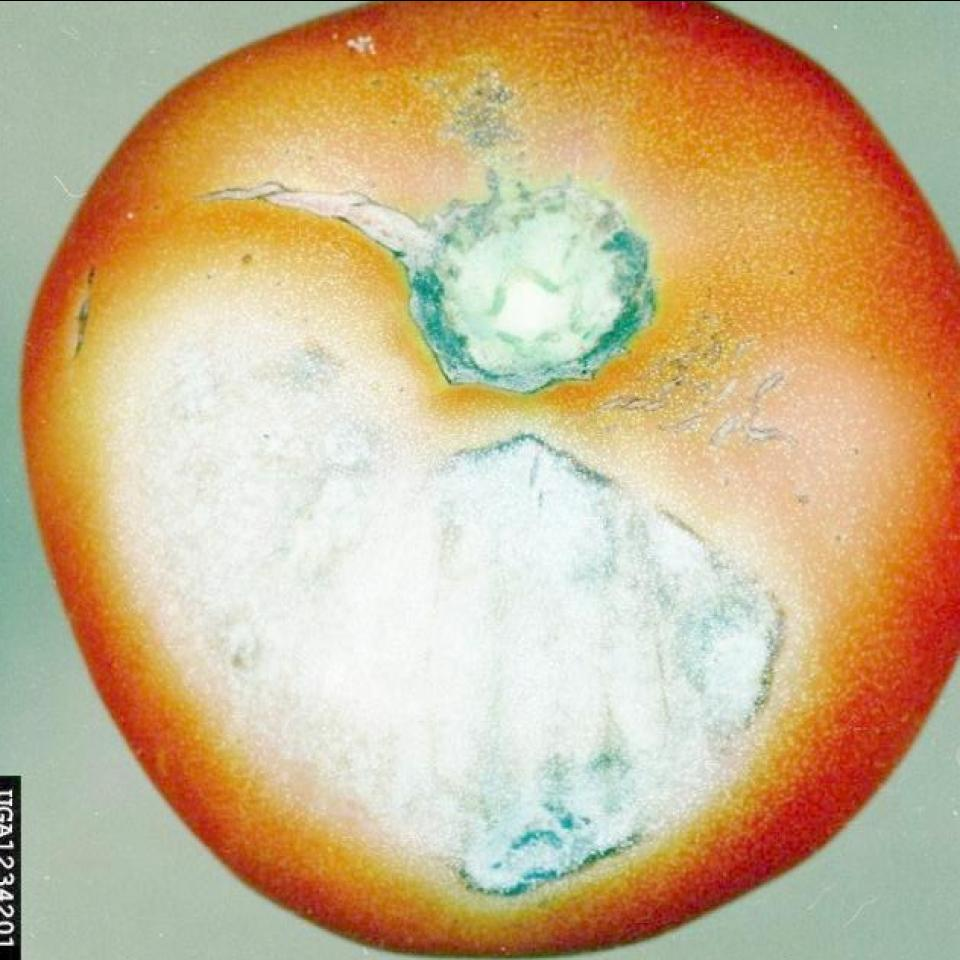Sunscald: (91, 304, 796, 904)
